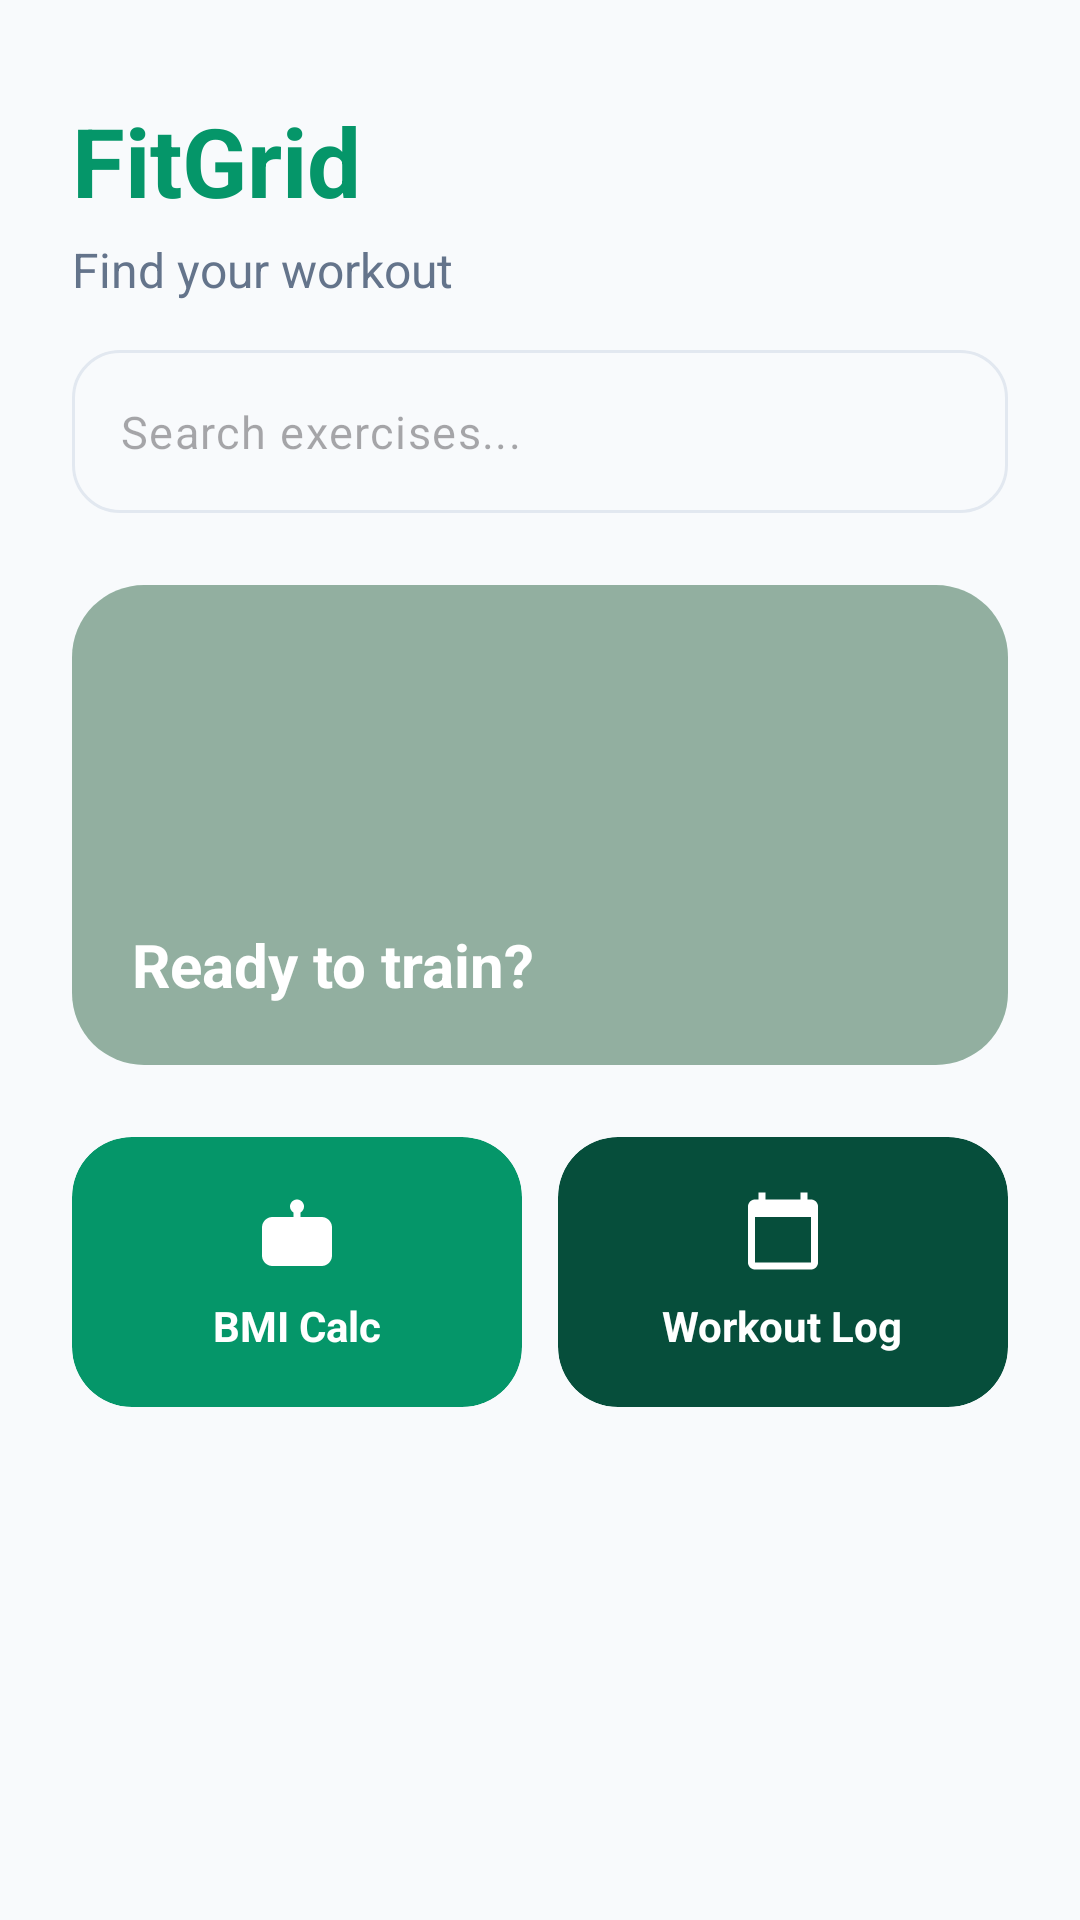

Where to tap for icons on this 1080 x 1920 app screen, as (x,y):
calendar: (783,1231)
weight: (297,1232)
